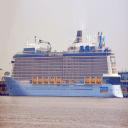cruises: (3, 29, 126, 101)
